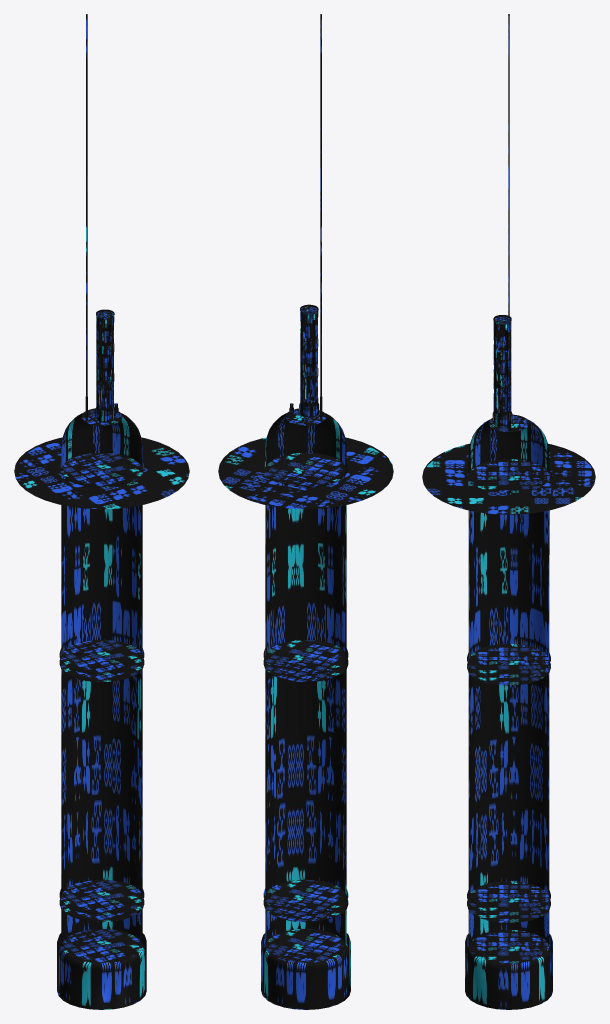
Rendered from argo.glb.
The picture shows the model from 3 angles, left to right: view 1: azimuth 30°, elevation 25°; view 2: azimuth 150°, elevation 25°; view 3: azimuth 270°, elevation 25°; orthographic projection.
Parts seen in each view (by area): view 1: A; view 2: A; view 3: A.
Part boxes in pixels (bbox=[...]): A: bbox=[14, 14, 189, 1009]; A: bbox=[218, 14, 393, 1009]; A: bbox=[422, 14, 595, 1009].
Size of the model in its own units: 0.3238 by 2 by 0.3238.
8 materials, 8 textured.
